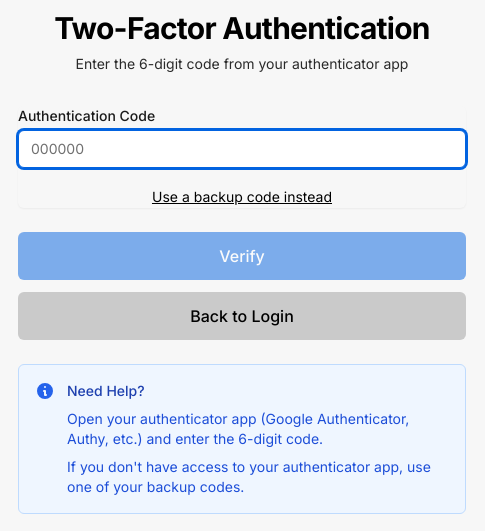
Scenario: MFAVerificationPage › Code Input › should only allow numeric input for TOTP code
Type "abc123xyz" into the field labelled "Authentication Code" at (242, 149), box [18,130,466,168]
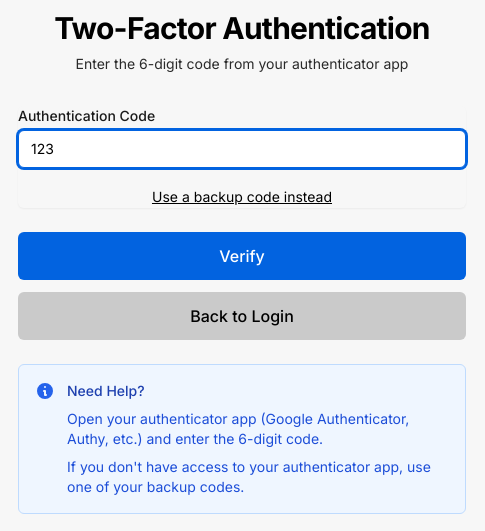
Expected: the field labelled "Authentication Code" holds "123", [18,130,466,168]
